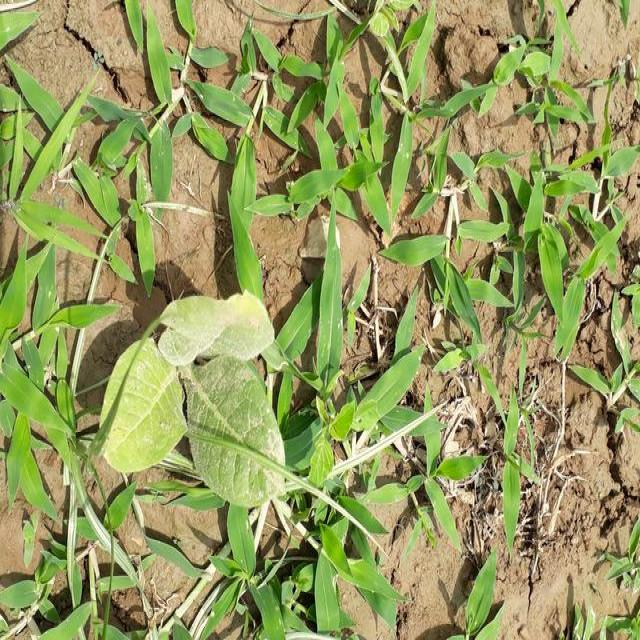crop: (96, 283, 292, 514)
